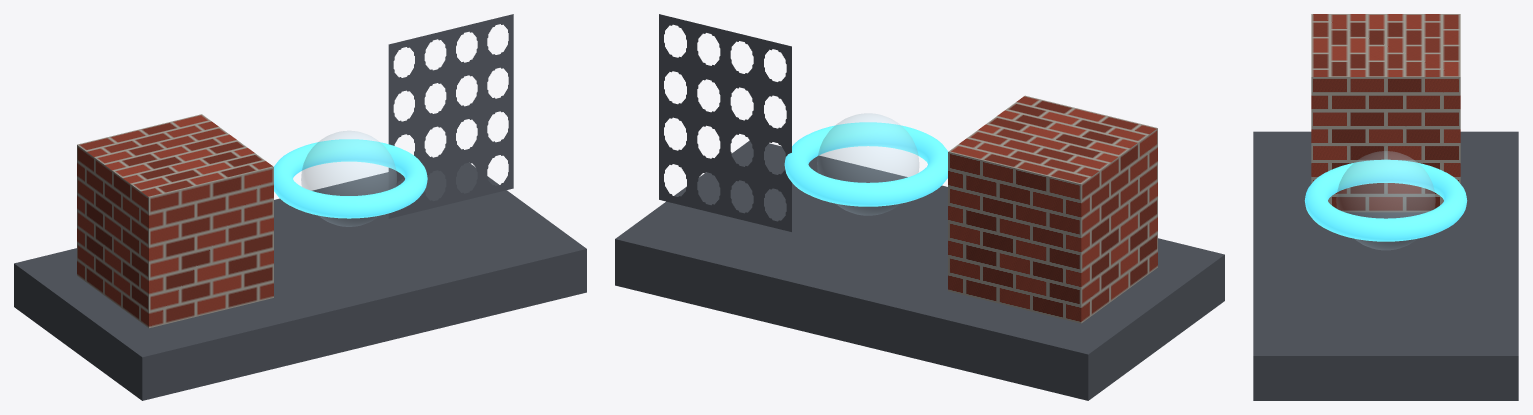
The model's file is Showcase.glb.
The picture shows the model from 3 angles, left to right: view 1: azimuth 30°, elevation 25°; view 2: azimuth 150°, elevation 25°; view 3: azimuth 270°, elevation 25°; orthographic projection. The views are drawn at different scales.
Visible parts, largest first — view 1: Showcase; view 2: Showcase; view 3: Showcase.
Boxes of the visible parts, x1,y1,x2,y2 form: Showcase: [14, 14, 586, 400]; Showcase: [615, 14, 1224, 400]; Showcase: [1253, 14, 1518, 400].
Bounding box in the file's own units: 3.25 × 1.5 × 1.6.
5 materials, 2 textured.
